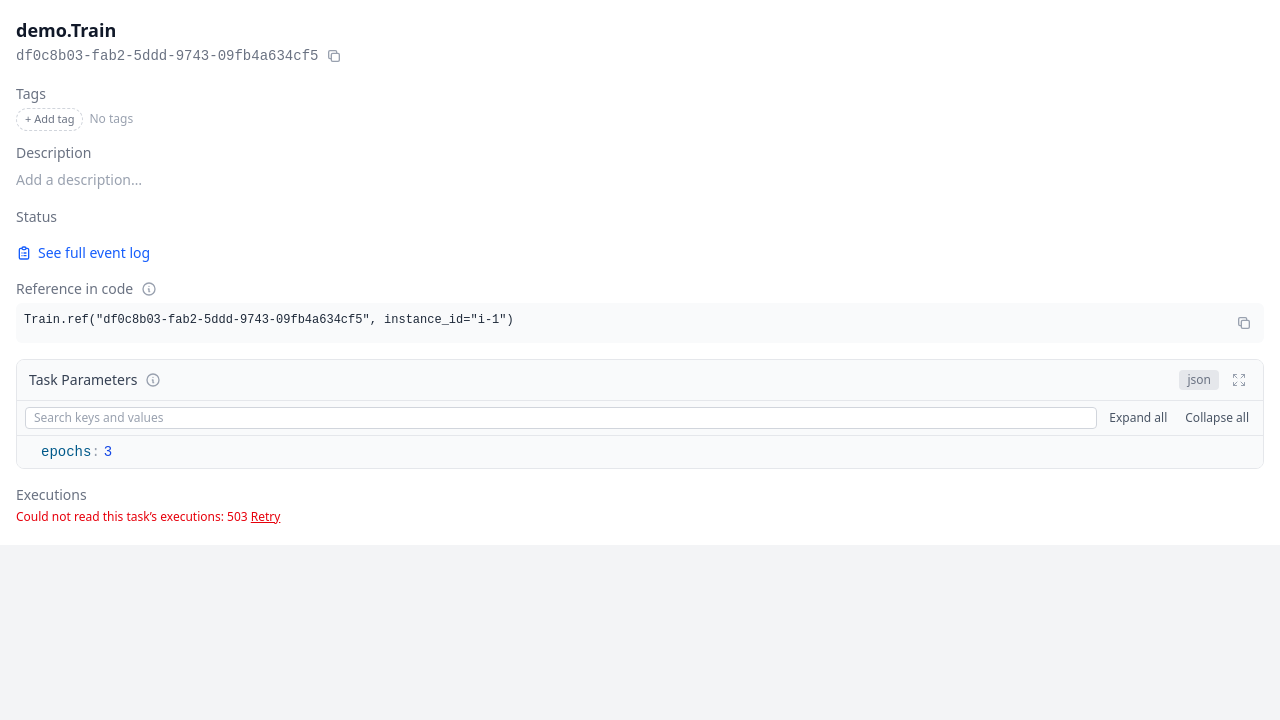
Test: TaskDetail › says the executions could not be read rather than that there are none
Expected: the text "Could not read this task’s executions: 503 Retry" is shown, [16,508,280,524]
Expected: the text "No execution recorded" is not shown
Click the button "Retry" at point(266, 516), box [251,508,280,524]
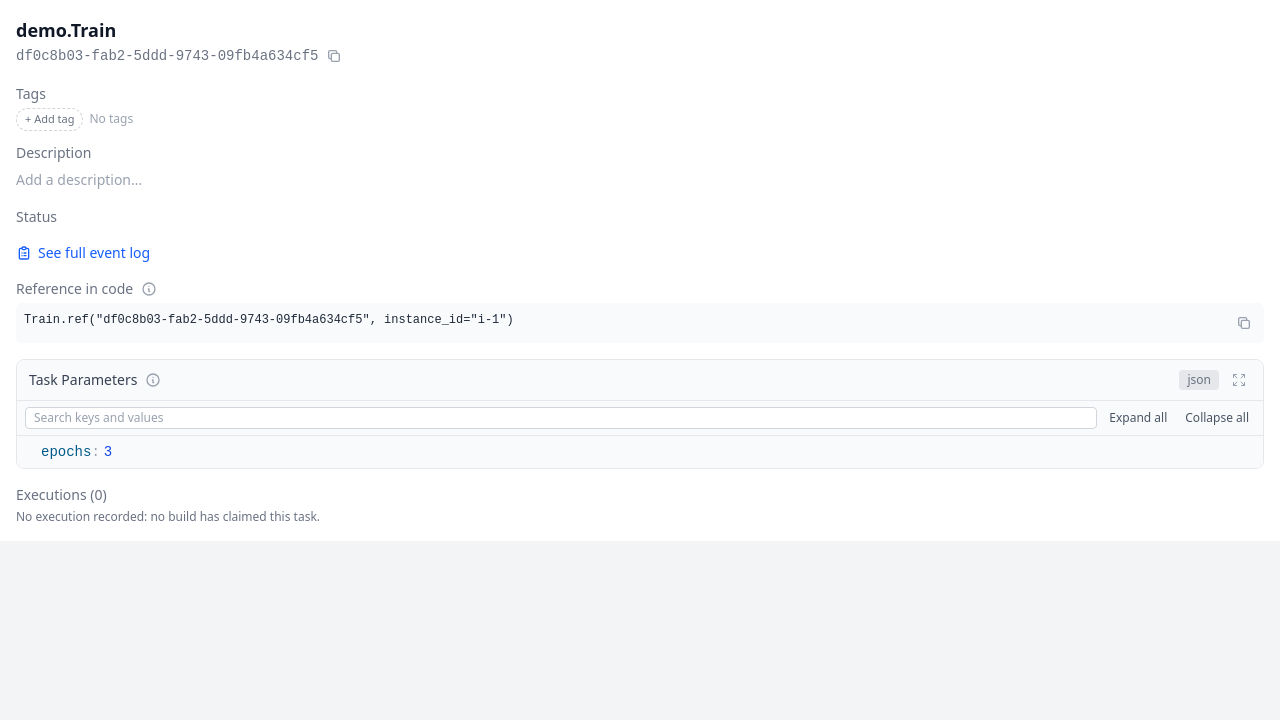
Expected: the text "No execution recorded: no build has claimed this task." is shown, [16,508,320,524]
Expected: the text "Could not read" is gone
